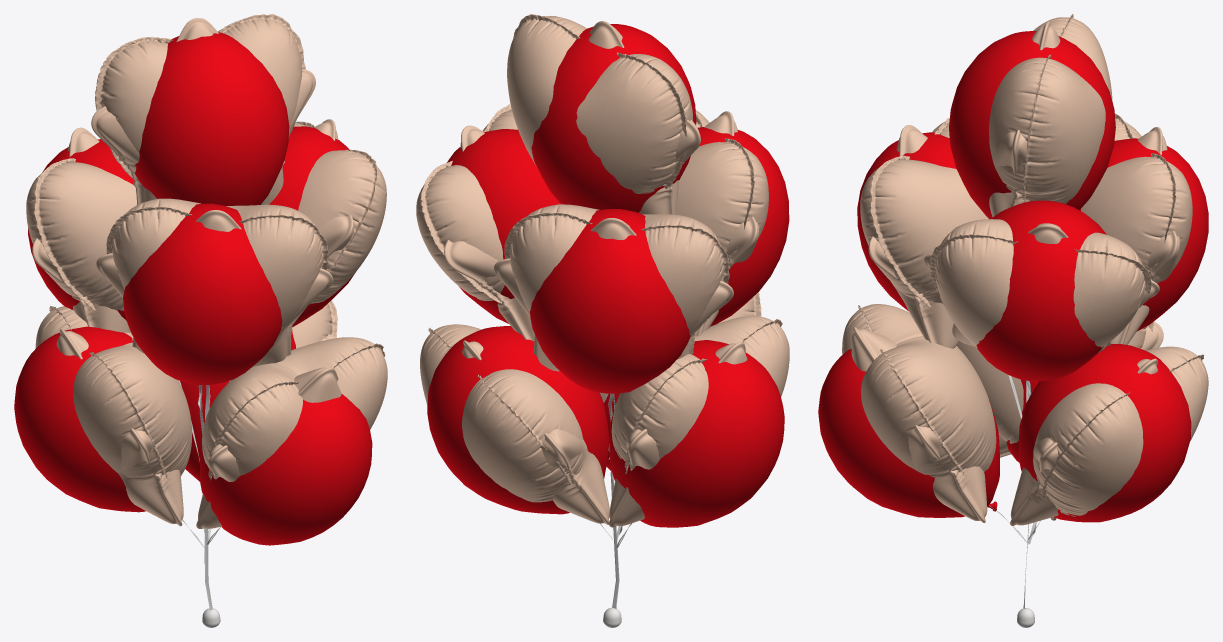
File: balloonBouquetV4_optimized.glb
3 renders of one model, left to right at view 1: azimuth 30°, elevation 25°; view 2: azimuth 150°, elevation 25°; view 3: azimuth 270°, elevation 25°, orthographic. The views are drawn at different scales.
Parts seen in each view (by area): view 1: TopA, Middle1A, Bottom1A, Bottom3B, Bottom1B, Bottom3A, Middle3B, Middle1B, TopB, Middle2B, Bottom3C, TopC (+8 smaller); view 2: Middle3A, TopB, Bottom3A, Bottom2B, Bottom2A, Middle3B, TopA, Bottom3B, Middle2B, Middle1B, Middle2A, Middle1A (+7 smaller); view 3: Bottom1B, Middle2B, TopB, Middle2A, Bottom2B, Bottom2A, Middle1B, TopA, Bottom1A, Middle3B, Bottom1C, Middle3A (+8 smaller).
Part boxes in pixels (x1=…): TopA: x1=135, y1=32, x2=289, y2=205; Middle1A: x1=123, y1=203, x2=282, y2=384; Bottom1A: x1=200, y1=394, x2=372, y2=545; Bottom3B: x1=35, y1=306, x2=191, y2=480; Bottom1B: x1=202, y1=337, x2=387, y2=480; Bottom3A: x1=14, y1=326, x2=145, y2=512; Middle3B: x1=26, y1=158, x2=136, y2=311; Middle1B: x1=106, y1=198, x2=328, y2=330; TopB: x1=95, y1=14, x2=305, y2=177; Middle2B: x1=294, y1=121, x2=386, y2=304; Bottom3C: x1=56, y1=329, x2=183, y2=526; TopC: x1=91, y1=18, x2=315, y2=204; Middle3A: x1=529, y1=209, x2=690, y2=393; TopB: x1=507, y1=14, x2=692, y2=193; Bottom3A: x1=609, y1=340, x2=784, y2=527; Bottom2B: x1=420, y1=324, x2=583, y2=502; Bottom2A: x1=427, y1=326, x2=609, y2=514; Middle3B: x1=504, y1=204, x2=729, y2=336; TopA: x1=531, y1=24, x2=696, y2=212; Bottom3B: x1=611, y1=316, x2=789, y2=474; Middle2B: x1=416, y1=104, x2=517, y2=303; Middle1B: x1=676, y1=110, x2=768, y2=263; Middle2A: x1=447, y1=129, x2=560, y2=323; Middle1A: x1=698, y1=127, x2=789, y2=326; Bottom1B: x1=842, y1=304, x2=996, y2=477; Middle2B: x1=929, y1=219, x2=1151, y2=348; TopB: x1=989, y1=14, x2=1112, y2=203; Middle2A: x1=976, y1=200, x2=1106, y2=381; Bottom2B: x1=1033, y1=346, x2=1208, y2=520; Bottom2A: x1=1018, y1=344, x2=1191, y2=522; Middle1B: x1=860, y1=118, x2=988, y2=308; TopA: x1=949, y1=31, x2=1115, y2=219; Bottom1A: x1=818, y1=348, x2=999, y2=517; Middle3B: x1=1081, y1=113, x2=1192, y2=282; Bottom1C: x1=851, y1=327, x2=987, y2=522; Middle3A: x1=1079, y1=138, x2=1208, y2=331.
Bounding box in the file's own units: 2.05 × 3.56 × 2.09.
